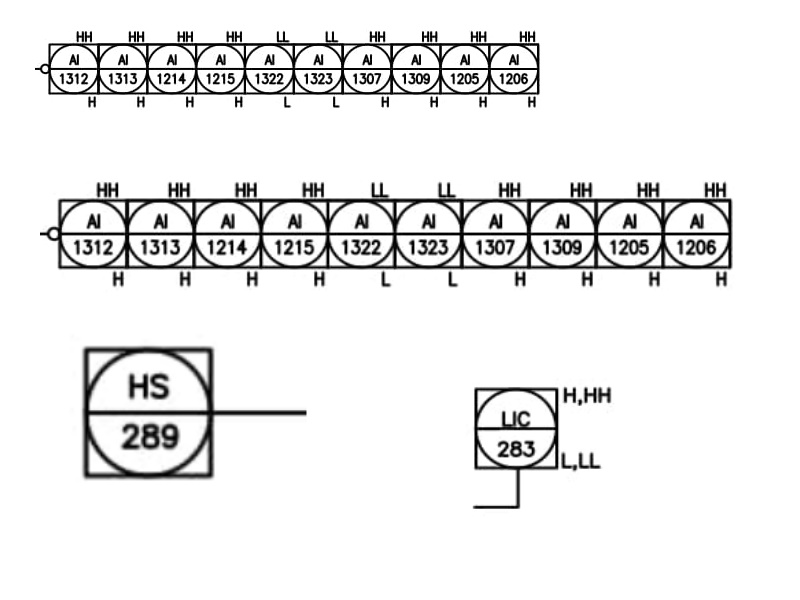Panel Instrument: (472, 384, 560, 474), (56, 196, 129, 271), (191, 195, 264, 270), (125, 197, 198, 272), (258, 196, 331, 271), (325, 194, 398, 269), (460, 195, 533, 270), (593, 196, 666, 271), (46, 39, 101, 98), (144, 40, 199, 99), (241, 39, 296, 98), (339, 38, 394, 97), (437, 38, 492, 97)
